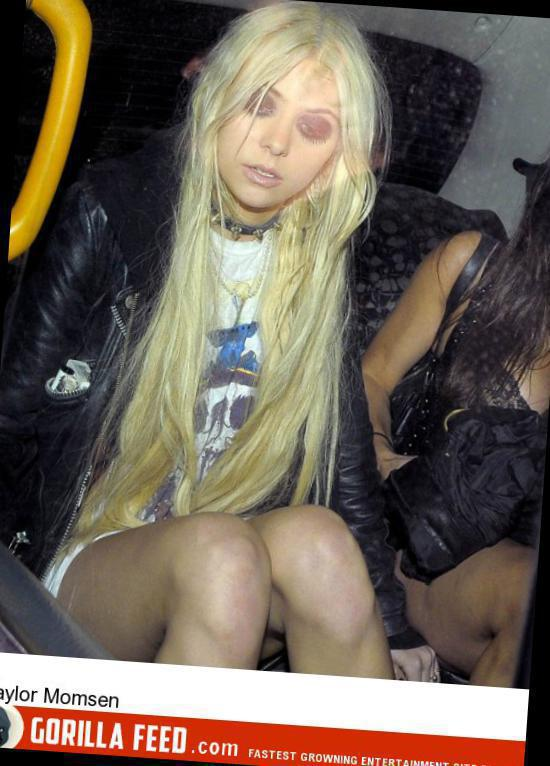Drunk: (226, 50, 337, 208)
